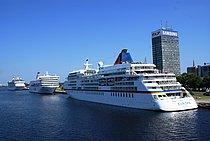Ship: (60, 46, 204, 117)
